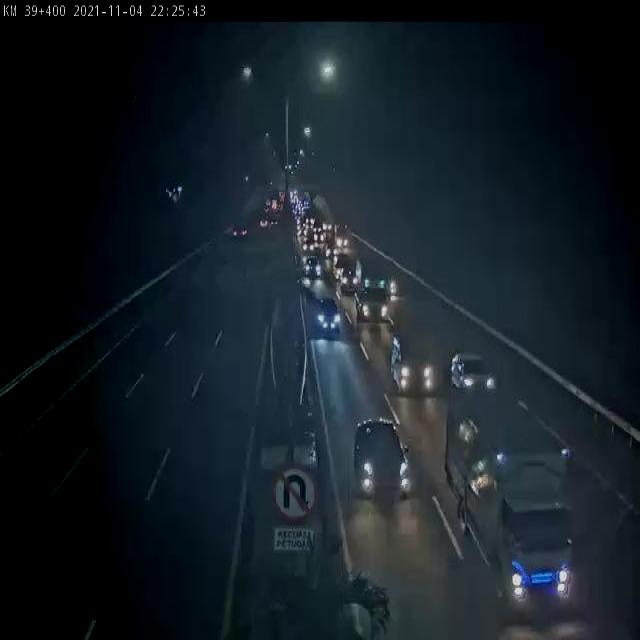Car: (353, 414, 415, 507), (452, 348, 496, 396), (352, 282, 391, 324), (312, 297, 343, 340), (334, 263, 364, 293), (303, 256, 323, 280), (232, 222, 250, 243)
Truck: (446, 389, 590, 620), (333, 224, 352, 251)
Van: (384, 334, 440, 396)
